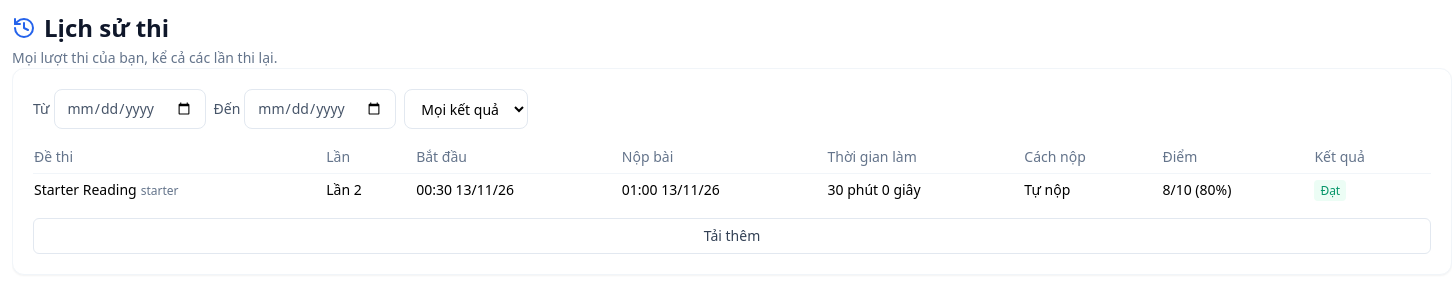
Test: ExamHistoryPage › lists own attempts in local time with submit reason and loads the next page by cursor
The image size is (1452, 292).
Expected: the text "Lần 2" is shown, 325,174 -> 415,206
Expected: the text "00:30 13/11/26" is shown, 415,174 -> 621,206
What coordinates should you click on to do the following:
click the button "Tải thêm"
I would click on:
 (732, 236)
Its box is 33,218 -> 1431,254.
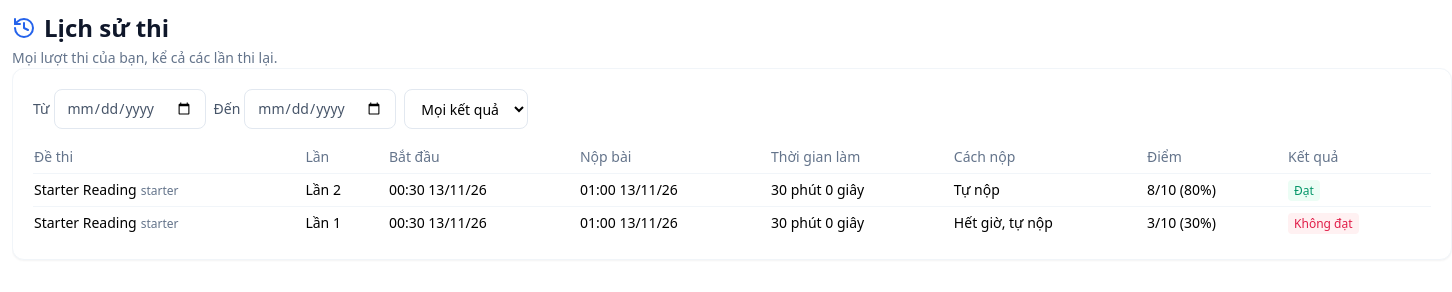
Result: the text "Hết giờ, tự nộp" is shown at 953,206 -> 1146,239
Result: the button "Tải thêm" is gone
